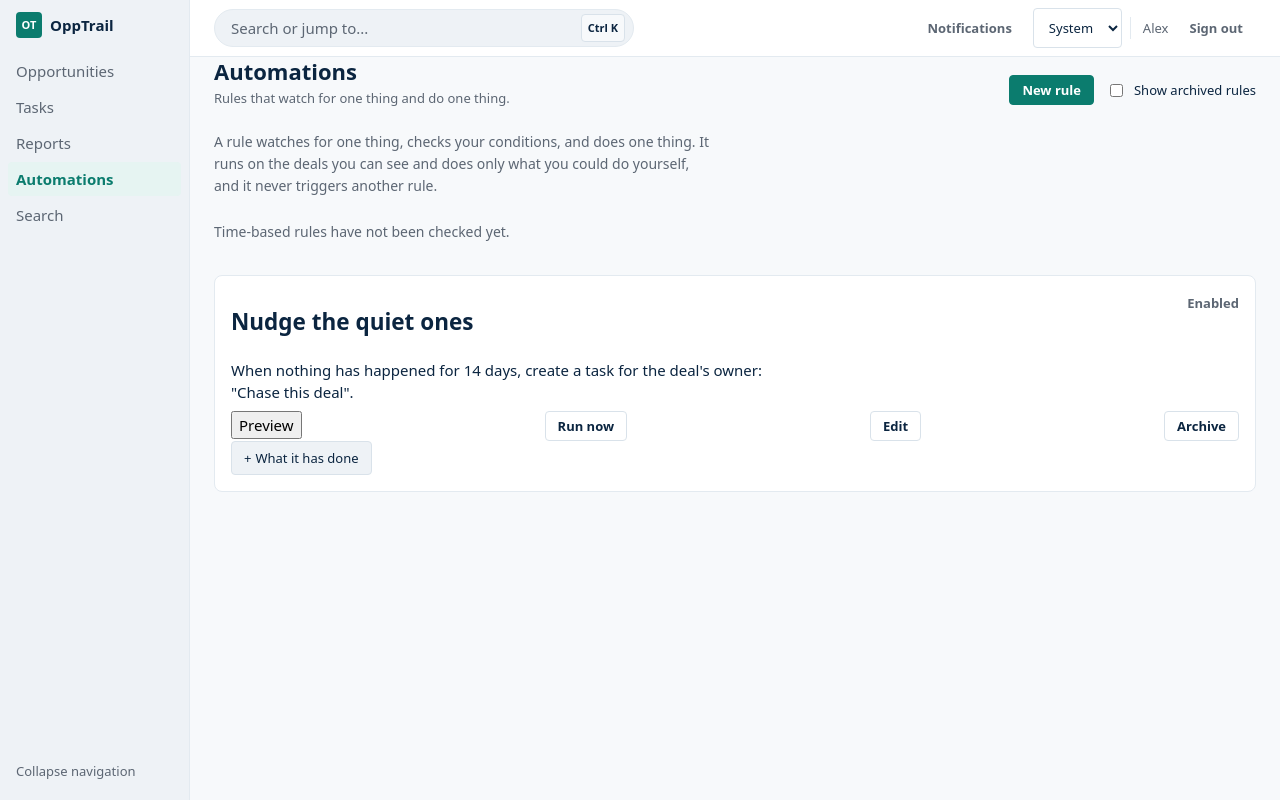
Test: previewing before running › says what would happen and writes nothing
Check: the heading "Automations" is shown, box left=214, top=56, right=357, bottom=86
Click the button "Preview": (266, 425) left=231, top=411, right=302, bottom=439
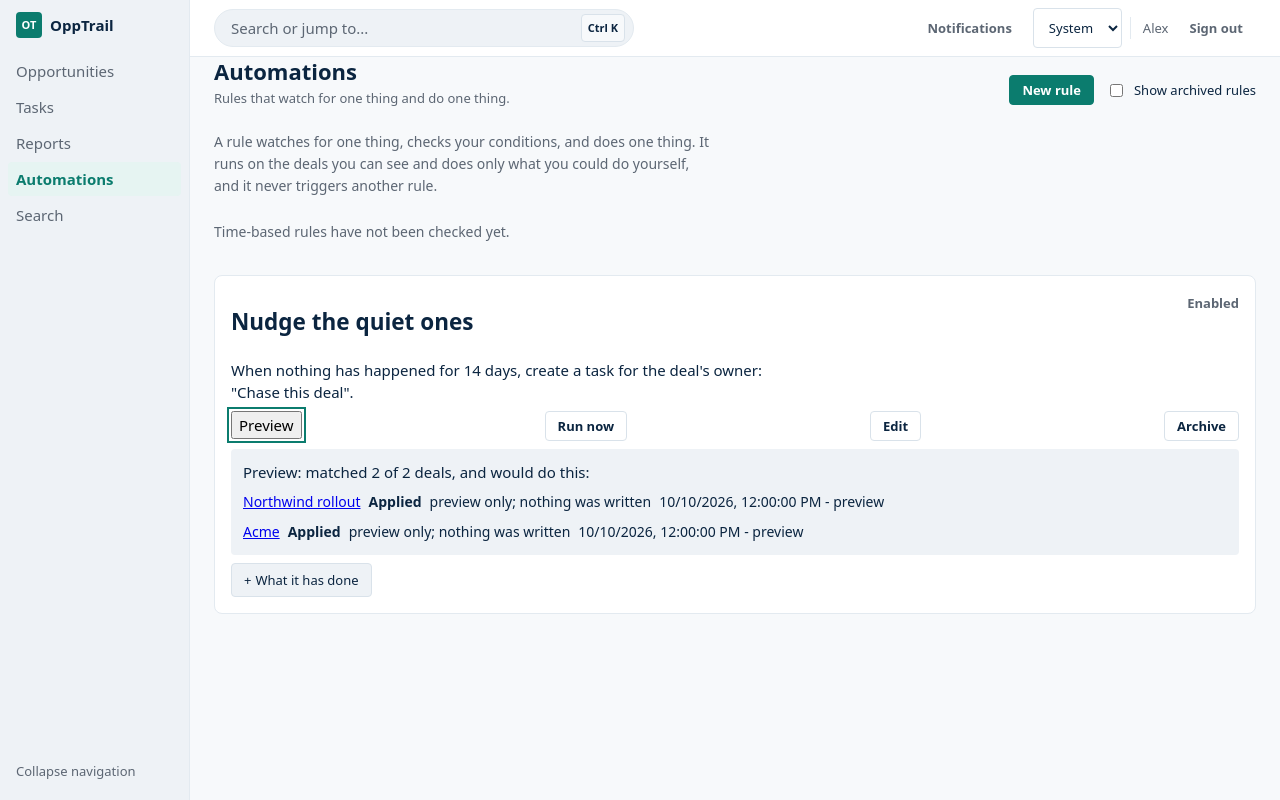
Check: the text "Preview: matched 2 of 2 deals, and would do this:" is shown, box left=243, top=462, right=590, bottom=482
Check: the text "preview only; nothing was written" is shown 2 times, box left=430, top=491, right=651, bottom=513; left=349, top=521, right=570, bottom=543
